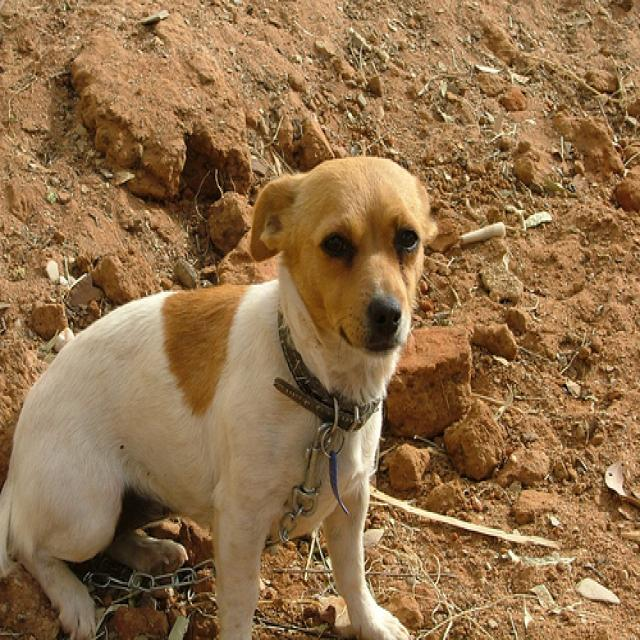dog-german_shorthaired: (1, 152, 439, 637)
